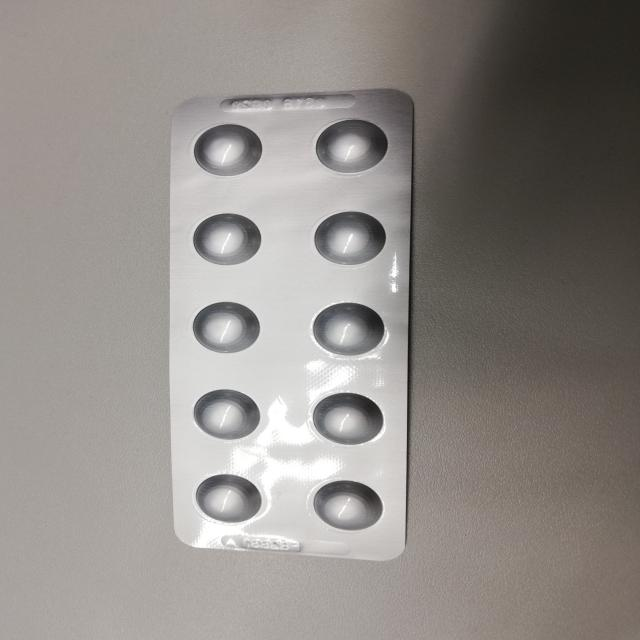Pill: (307, 471, 387, 539), (311, 111, 393, 177), (306, 206, 394, 266), (311, 297, 391, 361), (185, 120, 269, 180), (185, 467, 267, 525), (187, 210, 267, 269), (187, 297, 265, 356), (185, 386, 267, 442), (307, 389, 383, 447)
